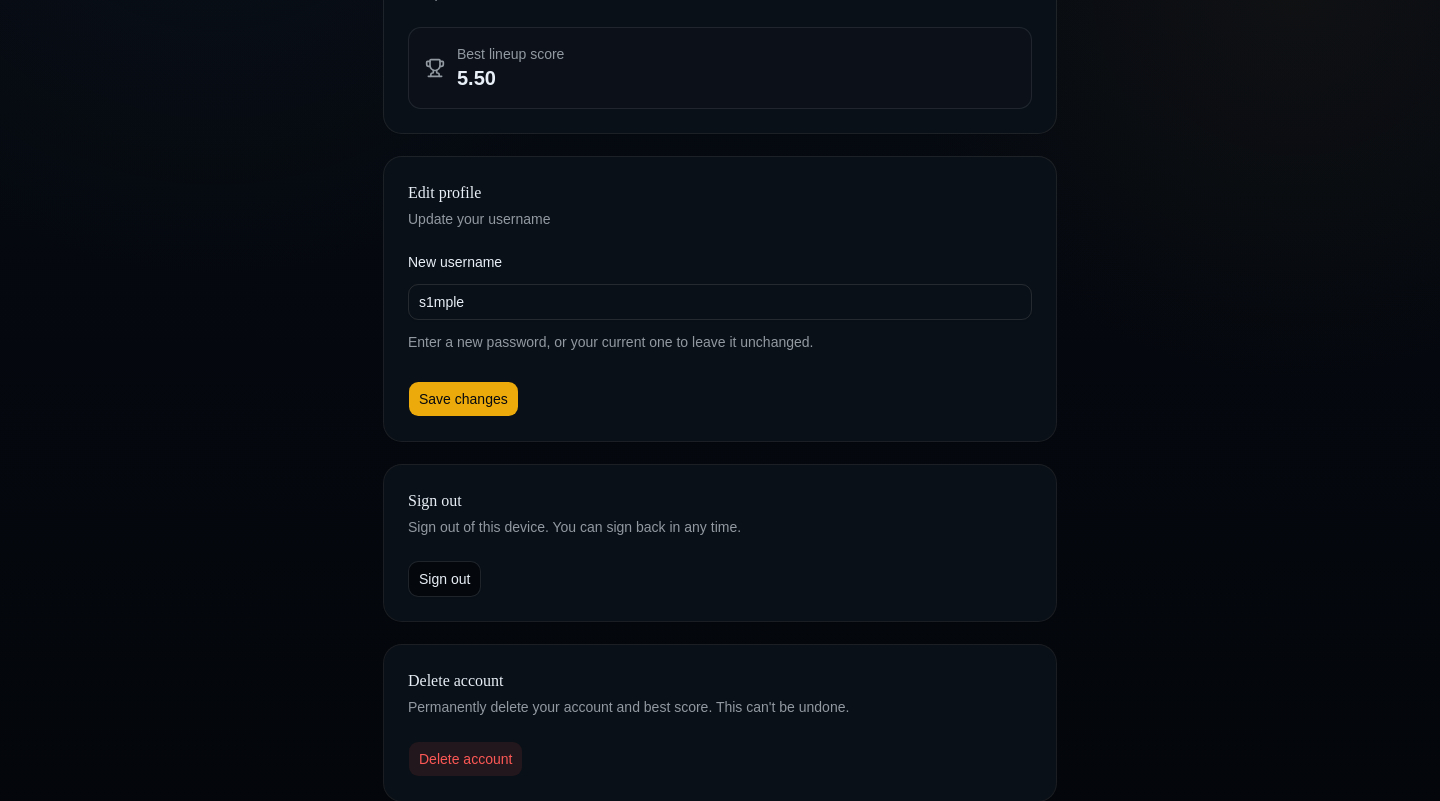
Test: Account — delete flow › opens the confirmation dialog when Delete account is clicked
(page scrolled)
What coordinates should you click on to do the following:
click the button "Delete account"
I would click on:
 (466, 759)
Its box is 408,741 -> 523,777.
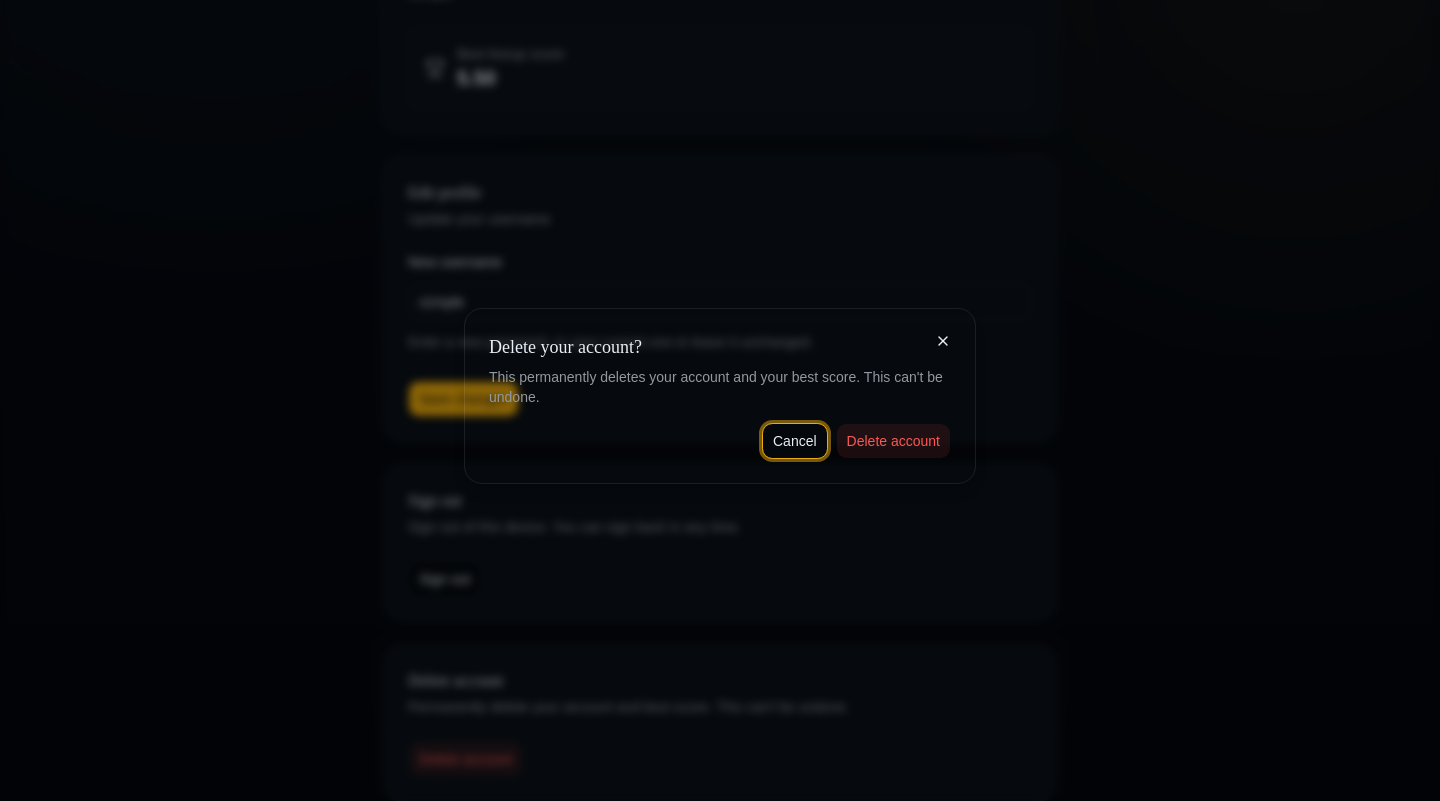
Now the text "permanently deletes your account" is shown, box 489,369 -> 943,405
Now the button "Cancel" is shown, box 762,423 -> 828,459
